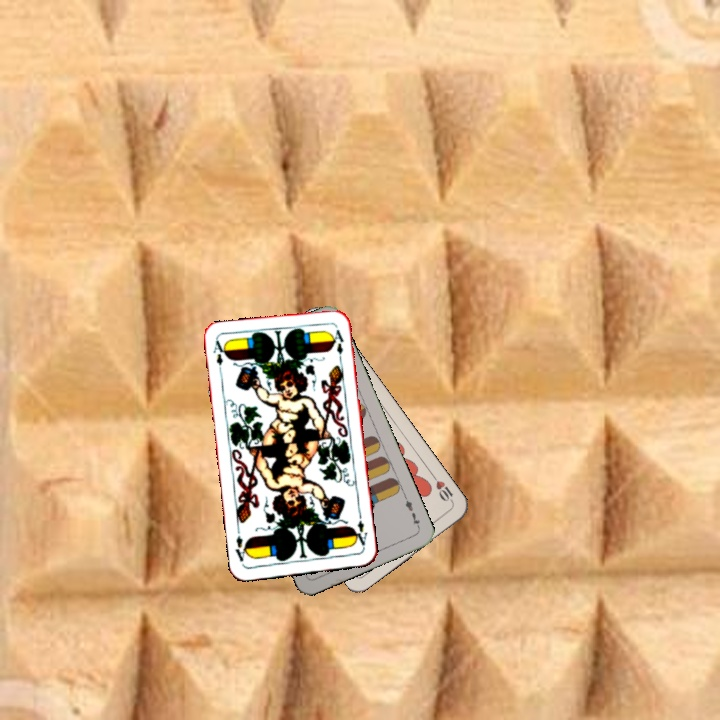E7: (400, 493, 423, 531)
EA: (350, 510, 370, 551), (209, 337, 228, 377)
H10: (428, 471, 457, 507)
